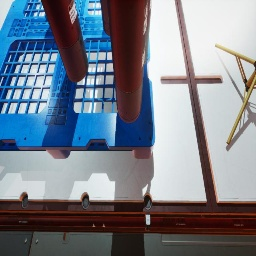NitrogenTank ,: (107, 0, 148, 123), (41, 0, 88, 82), (144, 0, 152, 66), (100, 0, 110, 36)
